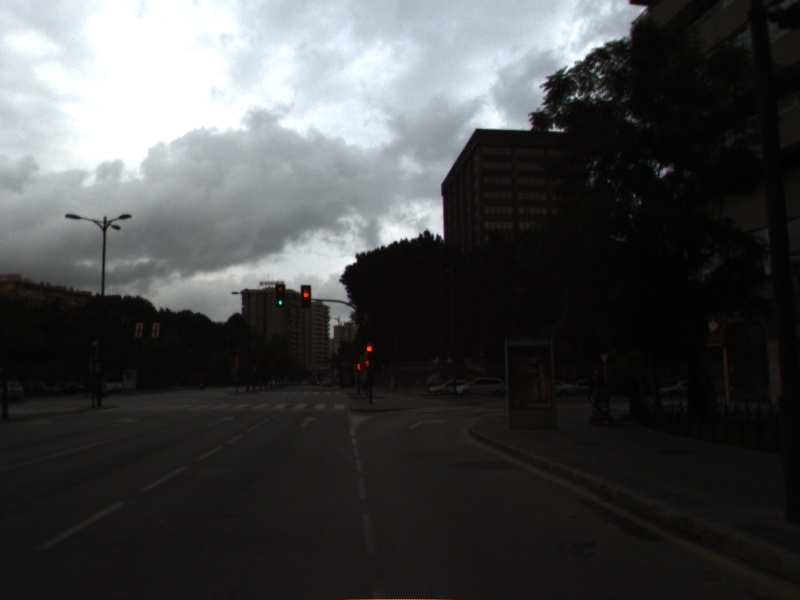RIGHT: (405, 416, 451, 432)
STRAIGHT: (202, 413, 237, 430), (297, 414, 320, 429)
